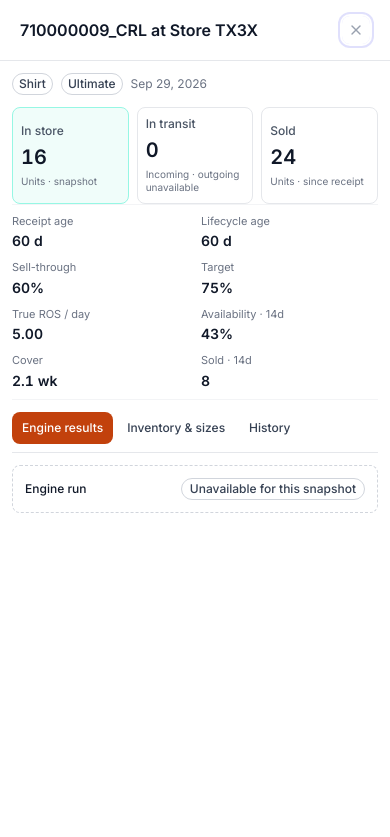
Test: store workspace health (S2-R11) › discloses numeric history and size evidence in the option drawer
Step 1. Click the button "History" → (270, 428), box [239, 412, 300, 444]
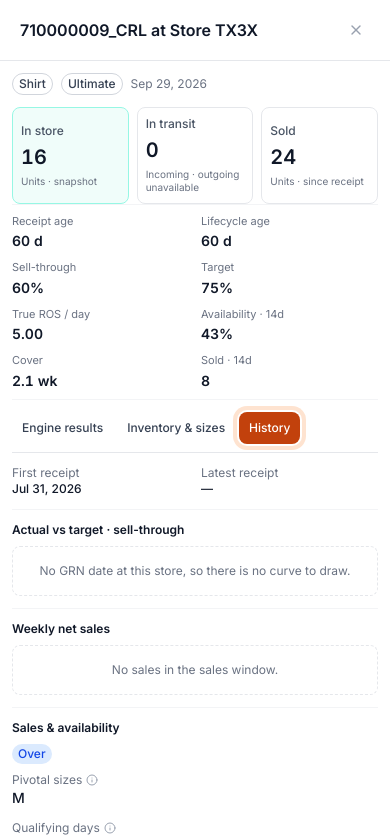
Now the text with test id "drawer-band" reads "Over", box [18, 746, 46, 761]
Step 2. Click the button "Inventory & sizes" → (176, 428), box [117, 412, 235, 444]
(page scrolled)
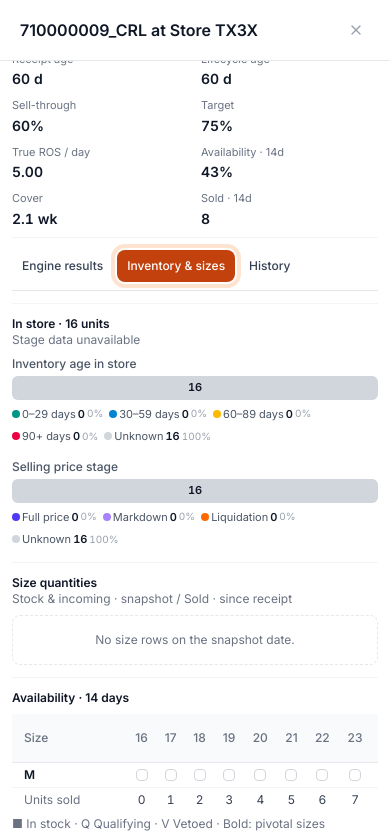
Now the table named "Sizes by day" is shown, box [12, 714, 378, 812]
